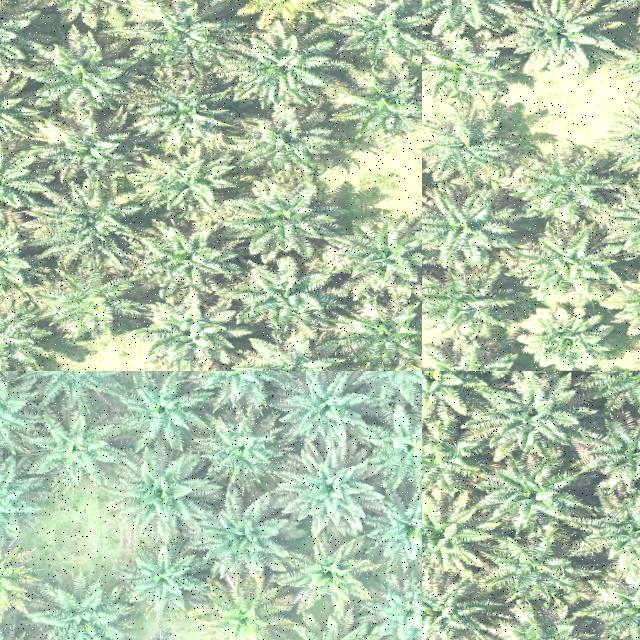Ganoderma: (214, 595, 273, 640), (256, 0, 317, 22), (0, 556, 18, 605)
